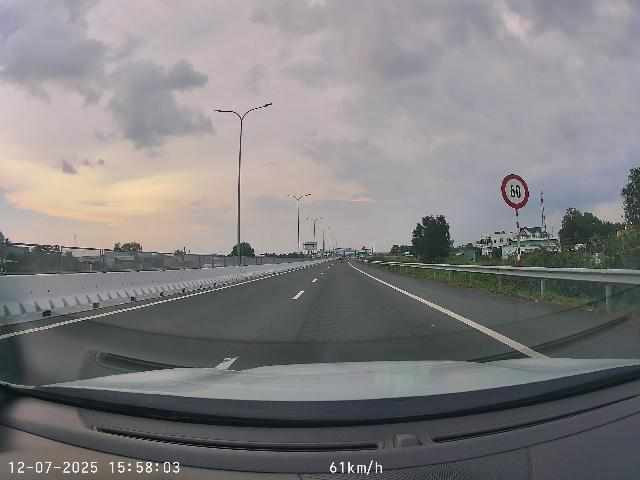127-toc-do-toi-da-60: (501, 174, 529, 209)
